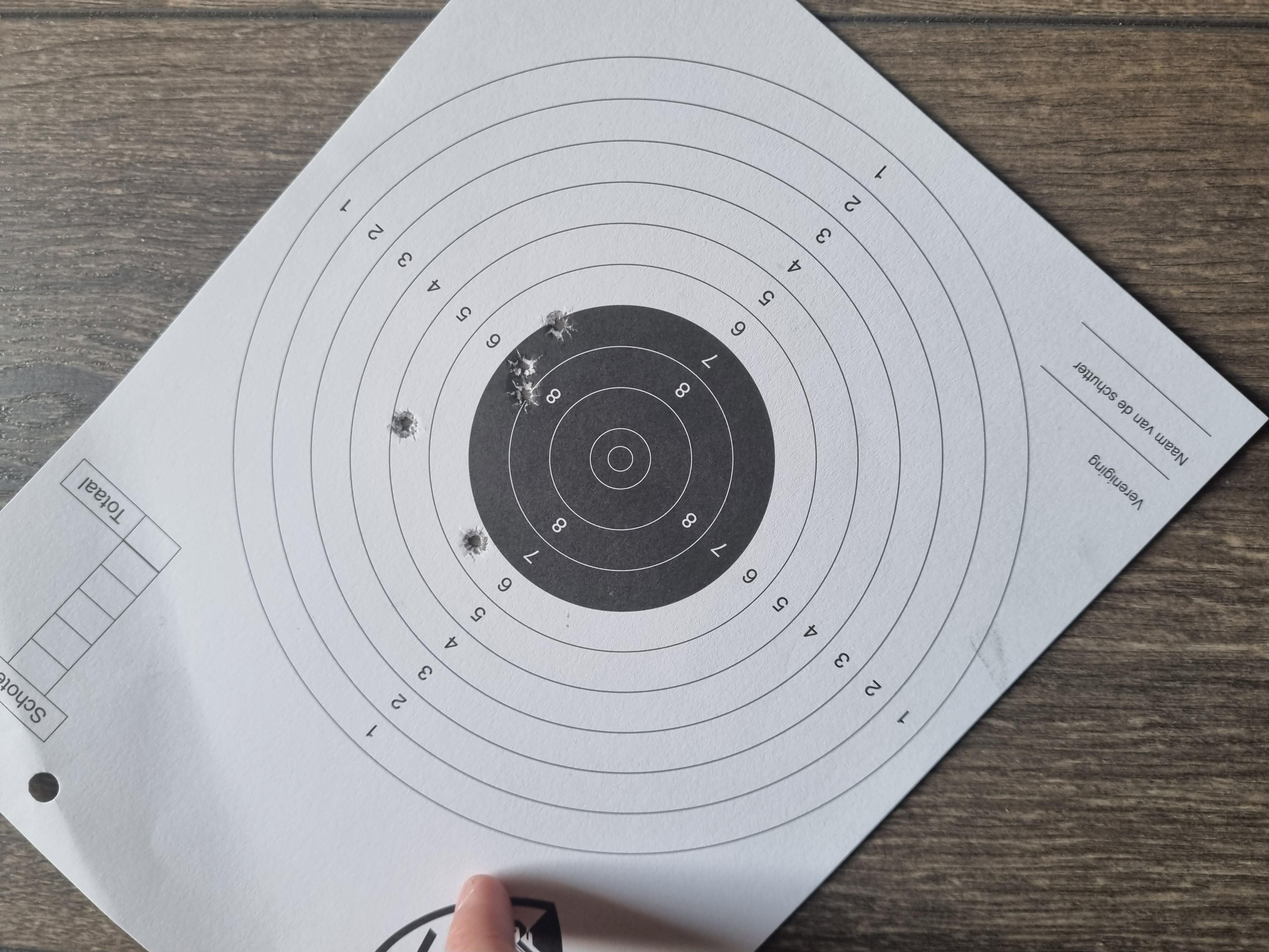hole: (814, 406, 860, 433), (718, 381, 768, 405), (763, 380, 805, 407), (517, 345, 565, 366), (683, 292, 721, 314)
